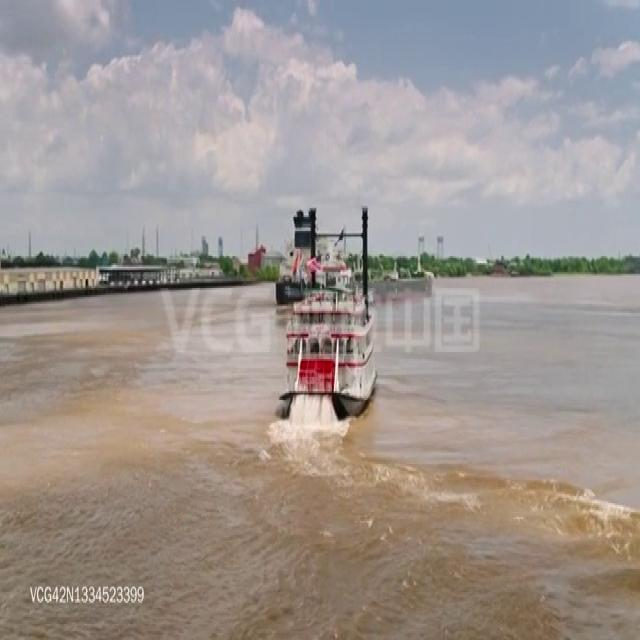cargoship: (274, 210, 432, 301)
passenger ship: (278, 242, 378, 424)
